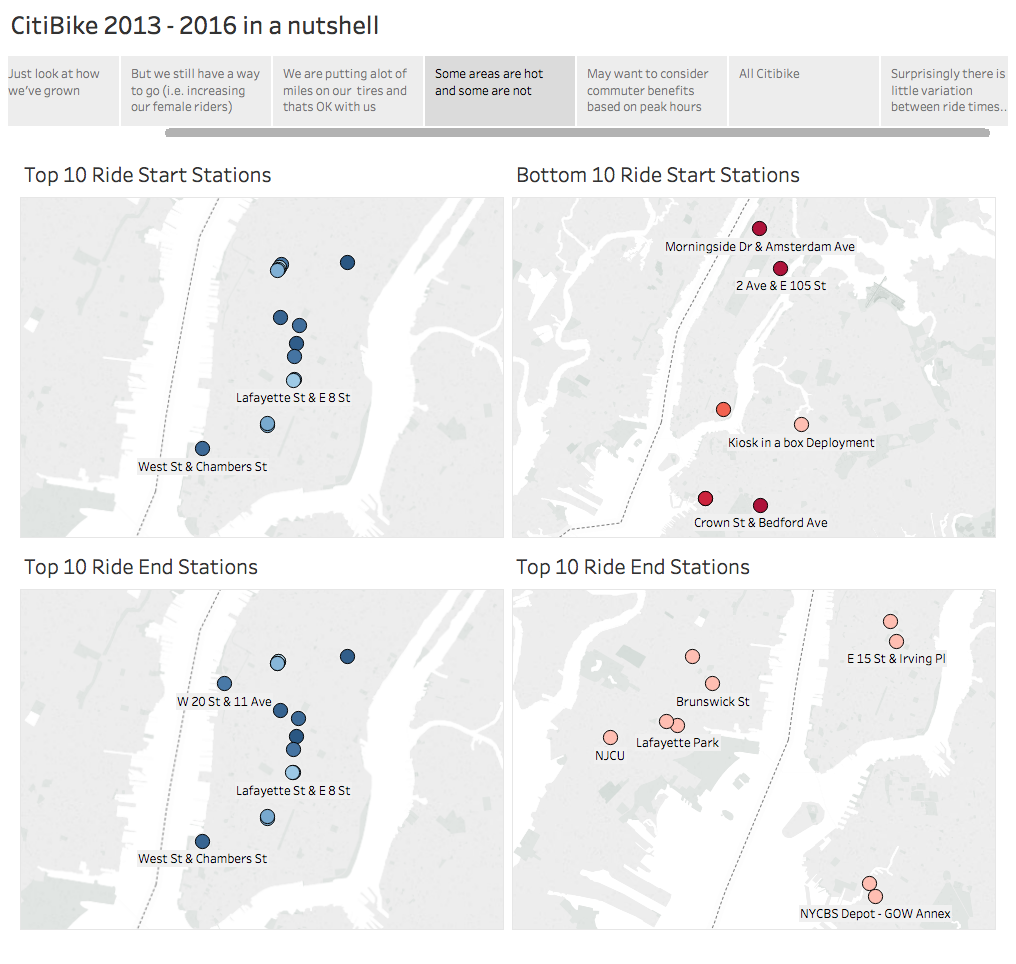

The dashboard page shown, as its layout file describes it:
{"tool":"tableau","page":{"name":" Starts and Ends","canvas":[1000,800],"ordinal":0},"visuals":[{"type":"worksheet","title":"Top_10_Start","mark":"Automatic","rows":["start station latitude"],"cols":["start station longitude"],"box":[8,8,492,392]},{"type":"worksheet","title":"Bottom_10_Start","mark":"Automatic","rows":["start station latitude"],"cols":["start station longitude"],"box":[500,8,492,392]},{"type":"worksheet","title":"Top_10_End","mark":"Automatic","rows":["end station latitude"],"cols":["end station longitude"],"box":[8,400,492,392]},{"type":"worksheet","title":"Bottom_10_End","mark":"Automatic","rows":["end station latitude"],"cols":["end station longitude"],"box":[500,400,492,392]}]}

Visuals, with their boxes on the page's 1000x800 design canvas (x1, y1, x2, y2). These are canvas units, not pixel positions in the 1016x964 screenshot, which may show the page scaled, cropped or inside an application window:
"Top_10_Start" worksheet: bbox=[8, 8, 500, 400]
"Bottom_10_Start" worksheet: bbox=[500, 8, 992, 400]
"Top_10_End" worksheet: bbox=[8, 400, 500, 792]
"Bottom_10_End" worksheet: bbox=[500, 400, 992, 792]
